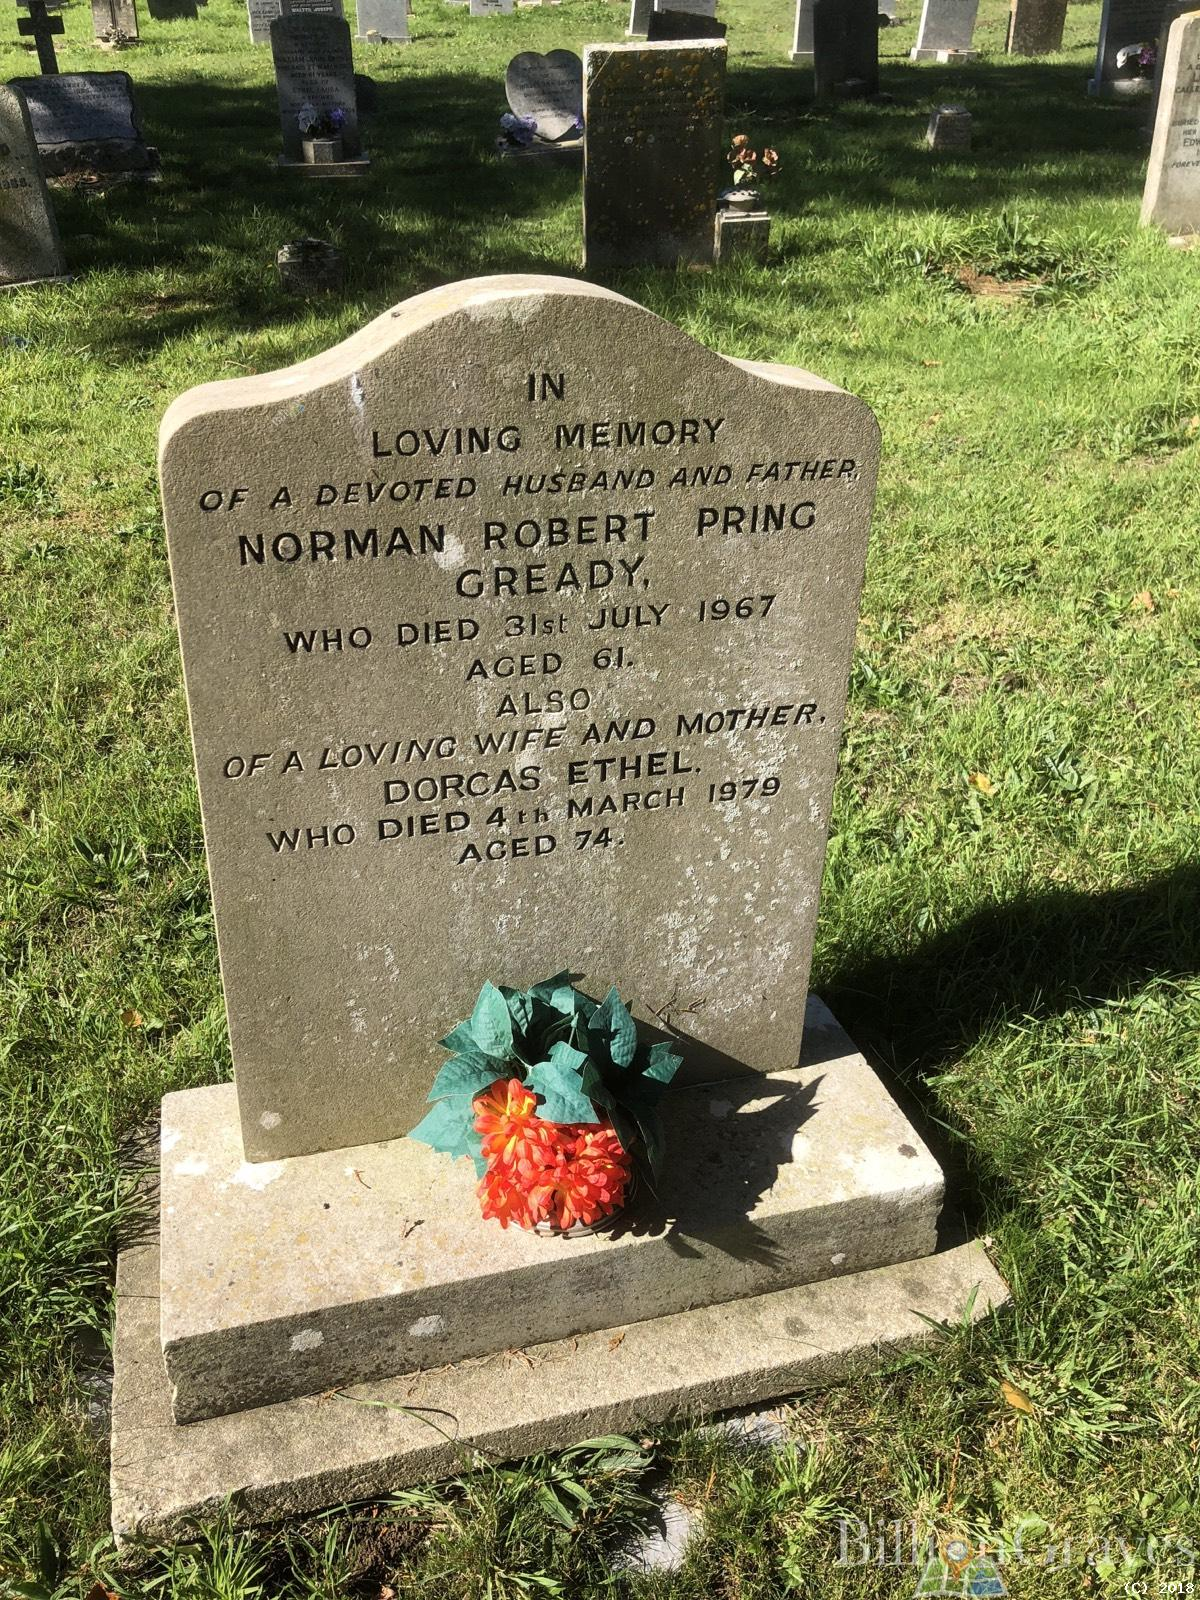upright: (103, 270, 1013, 1571)
